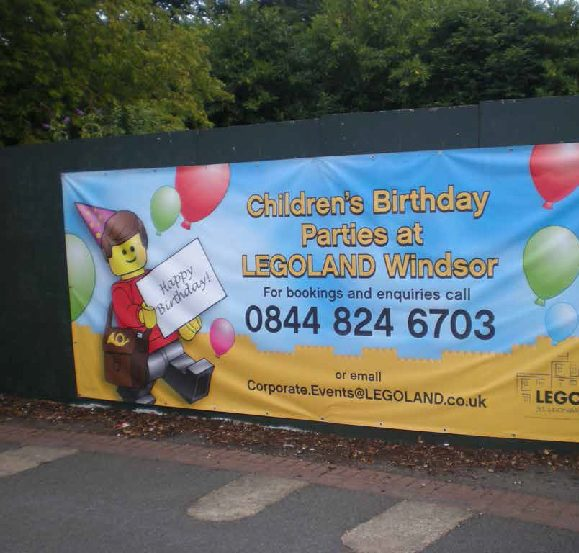vinyl banner: (47, 140, 579, 449)
